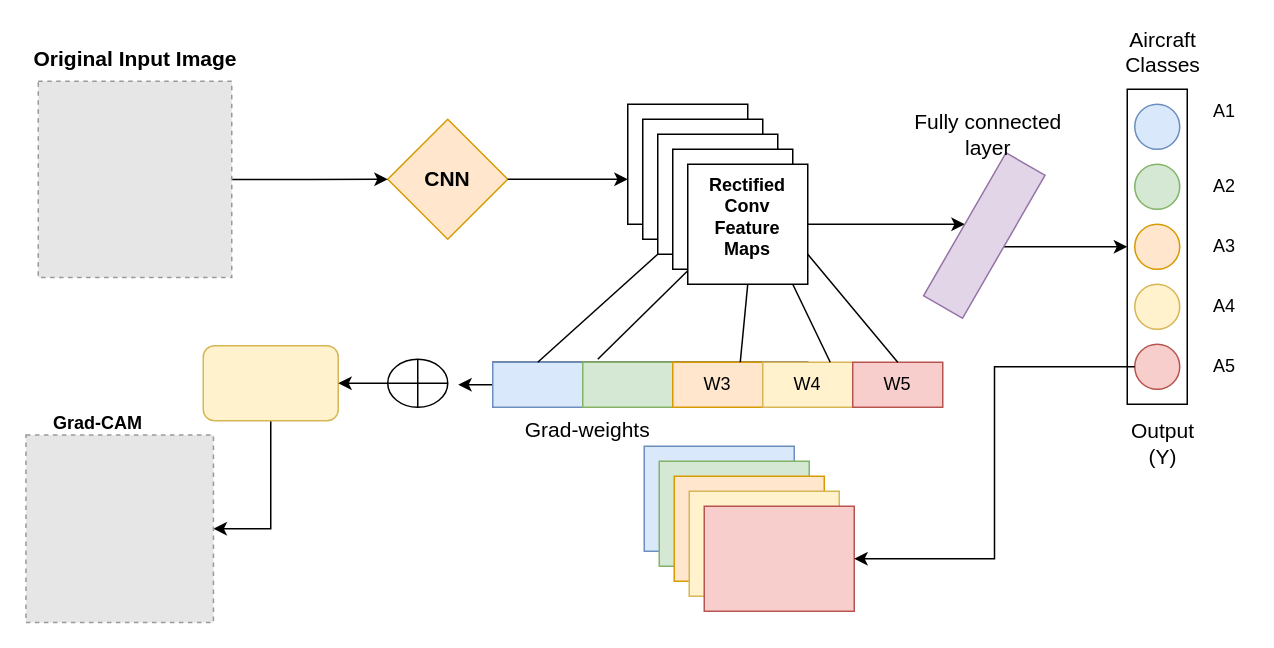
This 1274x648 diagram has some shape labels left out. Grey dashed boxes stand in for pictures. Here are the shapes that lost their labels. From the top down, the centre of each, then its label:
At [270,382]: "Relu".
At [537,384]: "W1".
At [627,384]: "W2".
